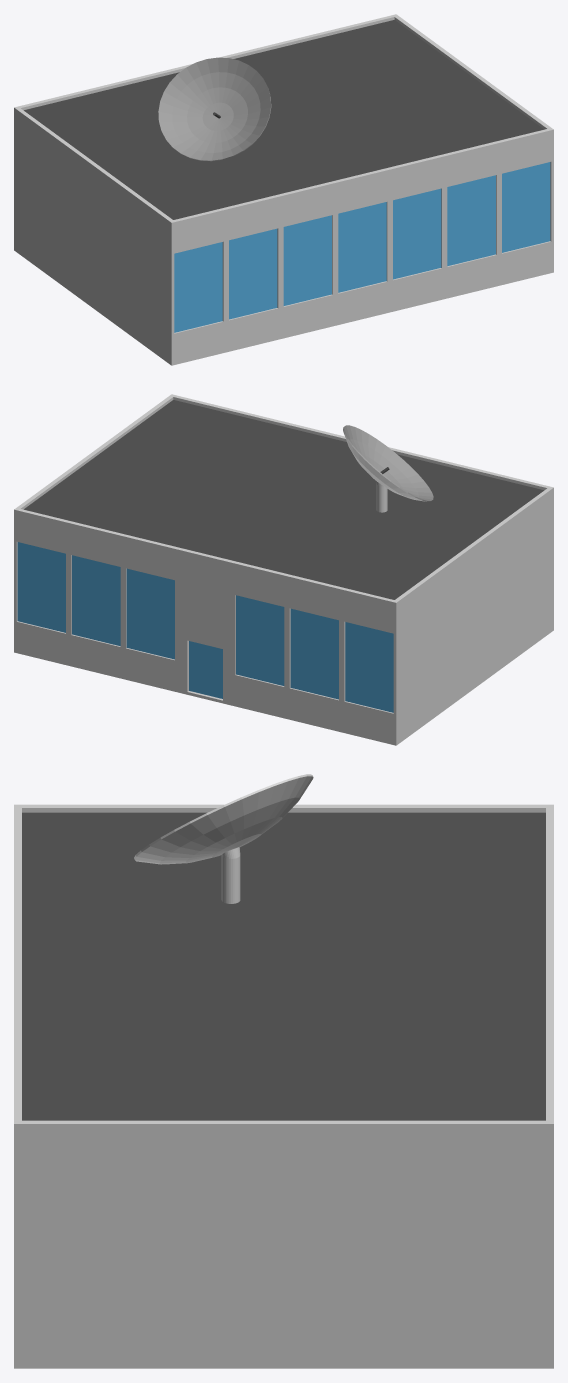
The model's file is facility1.fbx.
3 views of the same model, one above another, from view 1: azimuth 30°, elevation 25°; view 2: azimuth 150°, elevation 25°; view 3: azimuth 270°, elevation 25° (orthographic). The views are drawn at different scales.
Parts seen in each view (by area): view 1: Cube; view 2: Cube; view 3: Cube.
Boxes of the visible parts, x1,y1,x2,y2 form: Cube: (14,14,553,365); Cube: (14,394,553,745); Cube: (14,774,553,1368).
Size of the model in its own units: 1400 by 769 by 1000.
